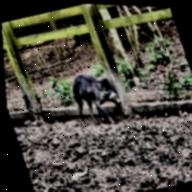boar: (67, 65, 128, 132)
